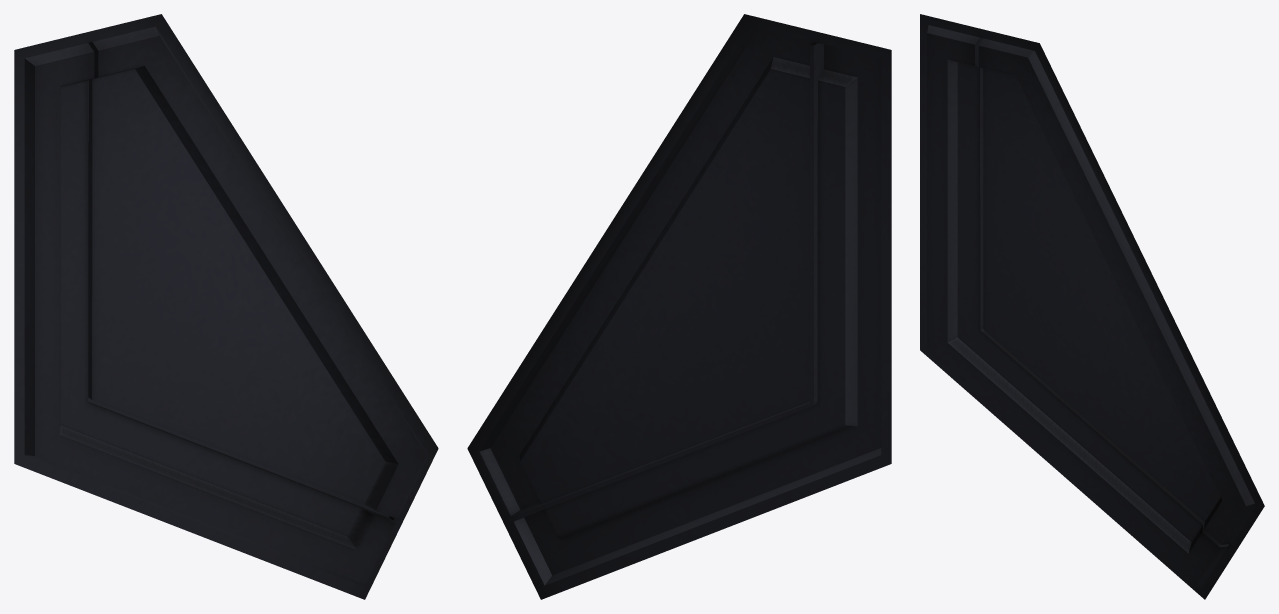
Rendered from door_left.obj.
The picture shows the model from 3 angles, left to right: view 1: azimuth 30°, elevation 25°; view 2: azimuth 150°, elevation 25°; view 3: azimuth 330°, elevation 25°; orthographic projection. The views are drawn at different scales.
Visible parts, largest first — view 1: Object011; view 2: Object011; view 3: Object011.
Boxes of the visible parts, x1,y1,x2,y2 form: Object011: [14, 14, 438, 599]; Object011: [467, 14, 891, 599]; Object011: [920, 14, 1264, 599].
Size of the model in its own units: 2.02 by 2.89 by 0.0812.
Materials: 1 (1 with a texture image).
